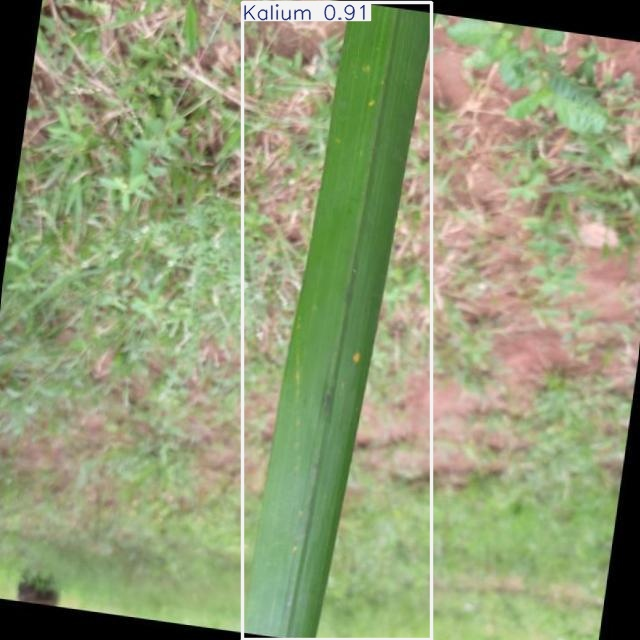Kalium: (242, 2, 431, 640)
